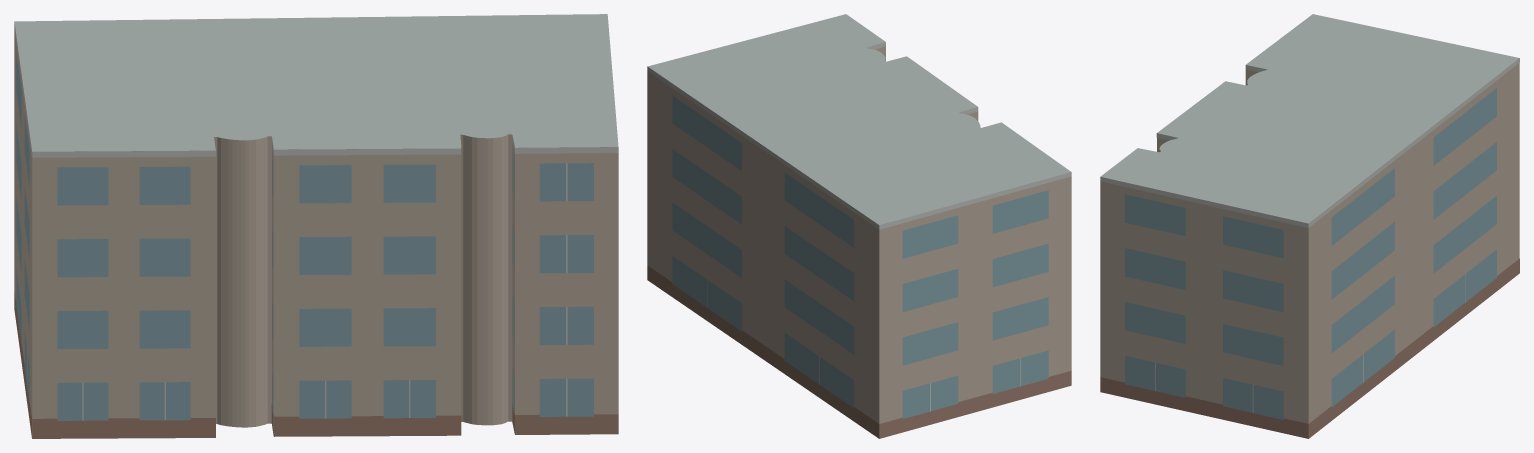
File: survey-upis-32741469.glb
The picture shows the model from 3 angles, left to right: view 1: azimuth 30°, elevation 25°; view 2: azimuth 150°, elevation 25°; view 3: azimuth 270°, elevation 25°; orthographic projection. The views are drawn at different scales.
Visible parts, largest first — view 1: survey-upis-32741469.tmp; view 2: survey-upis-32741469.tmp; view 3: survey-upis-32741469.tmp.
Boxes of the visible parts, bbox=[...] form: survey-upis-32741469.tmp: bbox=[14, 14, 618, 438]; survey-upis-32741469.tmp: bbox=[647, 14, 1071, 438]; survey-upis-32741469.tmp: bbox=[1100, 14, 1519, 438].
Size of the model in its own units: 24.22 by 11.6 by 20.49.
